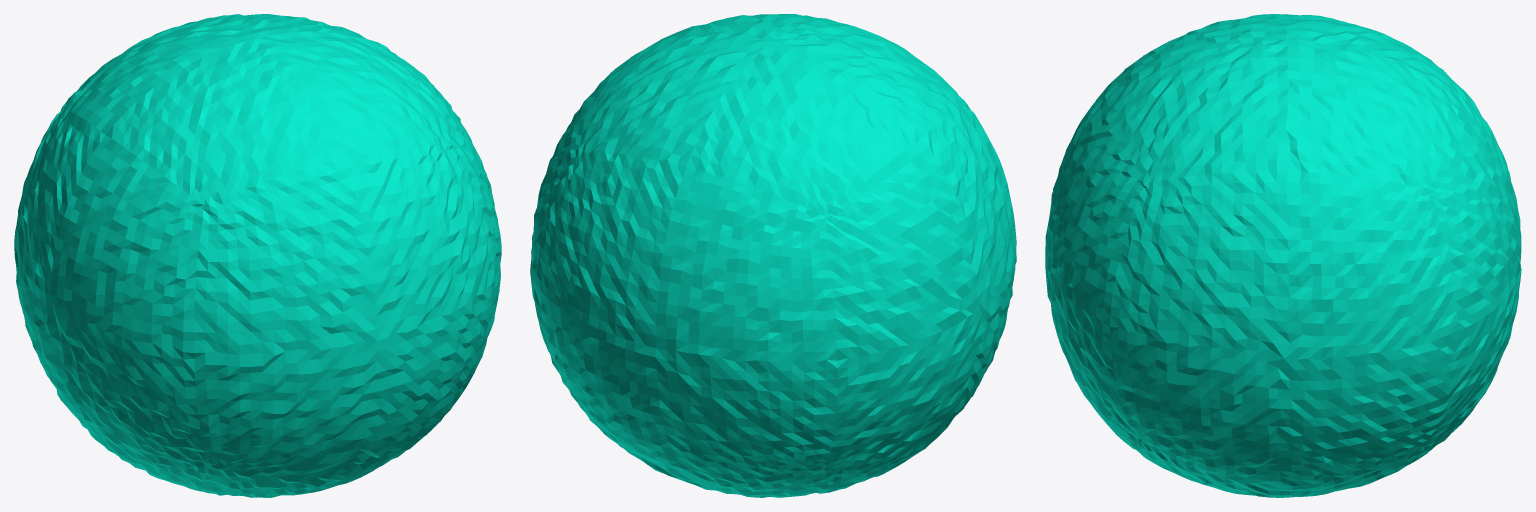
File: Sea20.fbx
3 views of the same model, side by side, from view 1: azimuth 30°, elevation 25°; view 2: azimuth 150°, elevation 25°; view 3: azimuth 270°, elevation 25° (orthographic).
Visible parts, largest first — view 1: pCube1; view 2: pCube1; view 3: pCube1.
Part boxes in pixels (box(x1,y1,x2,y2)): pCube1: box(14, 14, 501, 497); pCube1: box(530, 14, 1016, 497); pCube1: box(1045, 14, 1521, 497).
Bounding box in the file's own units: 40.02 × 39.97 × 39.93.
